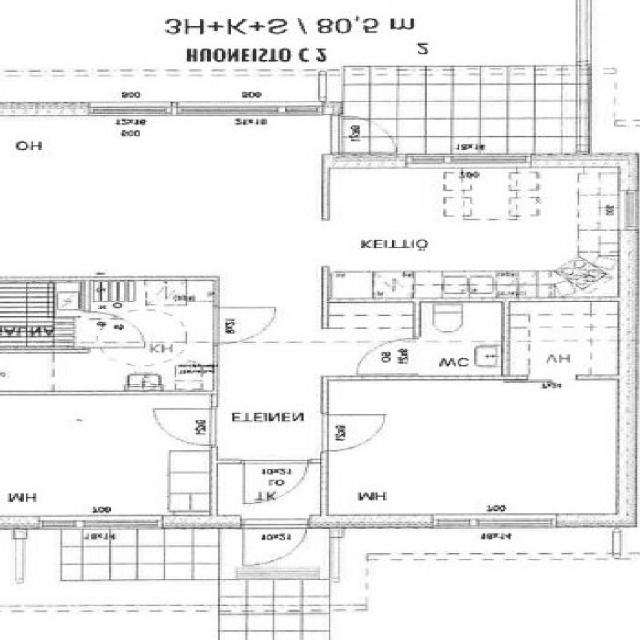door: (244, 515, 306, 569), (245, 458, 307, 504), (322, 115, 398, 152), (153, 408, 217, 446), (210, 307, 274, 343), (322, 414, 385, 450), (80, 312, 144, 347), (361, 338, 422, 374), (528, 375, 576, 411)
